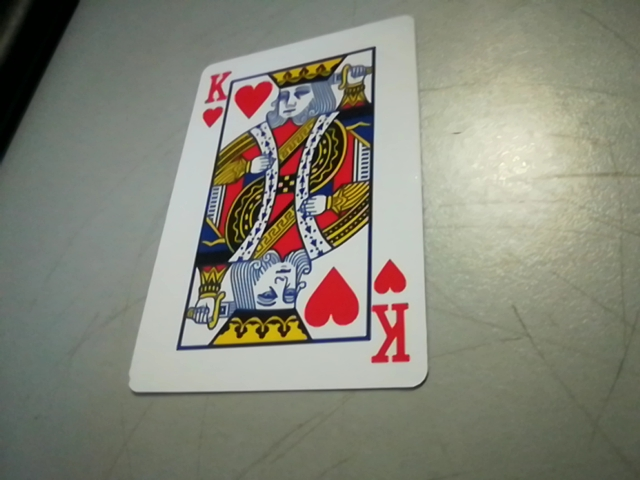hx k: (364, 258, 422, 377), (188, 68, 232, 127)
